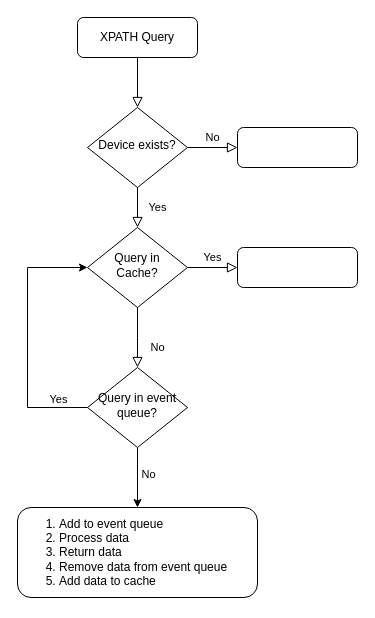
Some shapes in this 375 by 618 pixel diagram are drawn without their labels. The centre of each missing label's shape, as x and y in pixels:
"Return 4xx" belongs at point (297, 147).
"Return data" belongs at point (297, 267).
